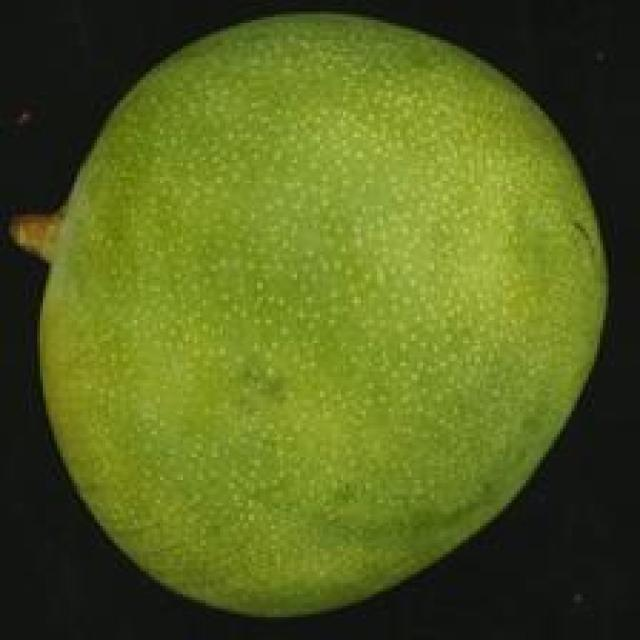Good_Mango: (34, 11, 611, 626)
